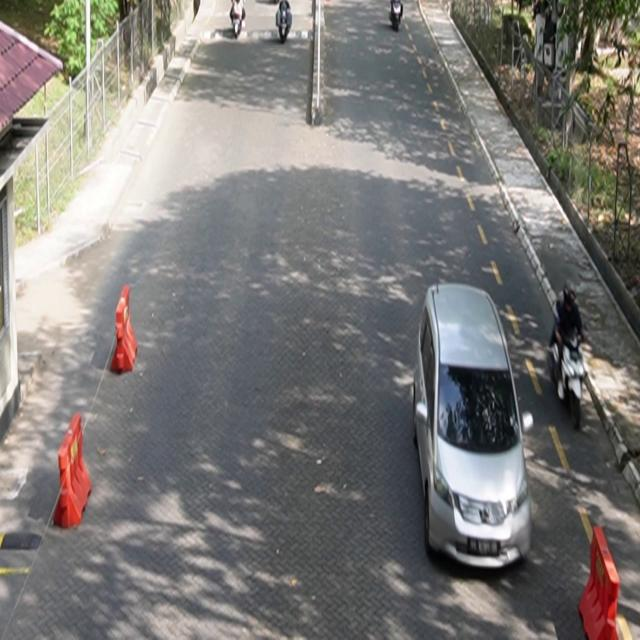car: (413, 282, 535, 572)
